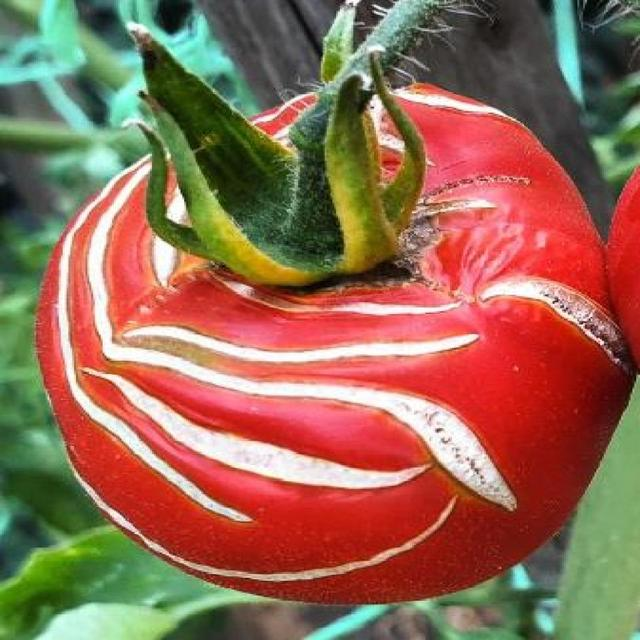Cracking Fruit: (180, 144, 299, 292)
